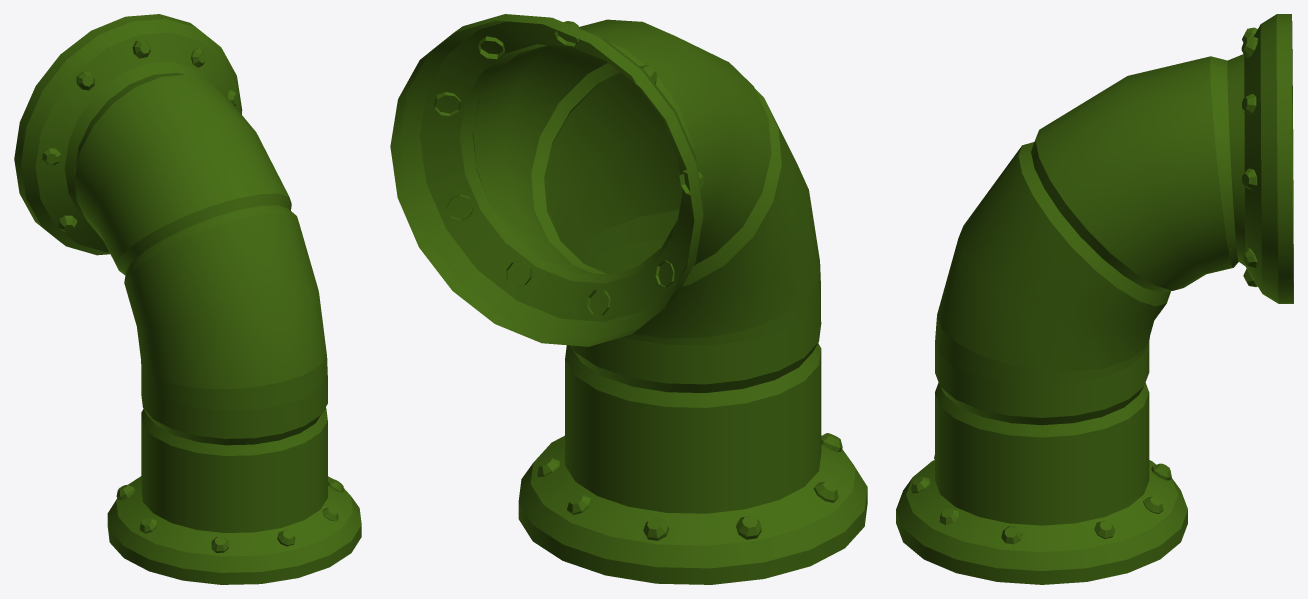
The model's file is tuyau_90_droit.fbx.
3 views of the same model, side by side, from view 1: azimuth 30°, elevation 25°; view 2: azimuth 150°, elevation 25°; view 3: azimuth 270°, elevation 25° (orthographic). The views are drawn at different scales.
Visible parts, largest first — view 1: Cylinder.017, Cube.491; view 2: Cylinder.017, Cube.491; view 3: Cylinder.017, Cube.491.
Part boxes in pixels (x1,y1,x2,y2): Cylinder.017: (14, 14, 361, 584); Cube.491: (42, 39, 343, 552); Cylinder.017: (390, 14, 867, 584); Cube.491: (434, 21, 842, 540); Cylinder.017: (896, 14, 1293, 584); Cube.491: (911, 27, 1257, 544).
Bounding box in the file's own units: 119 × 223 × 162.
